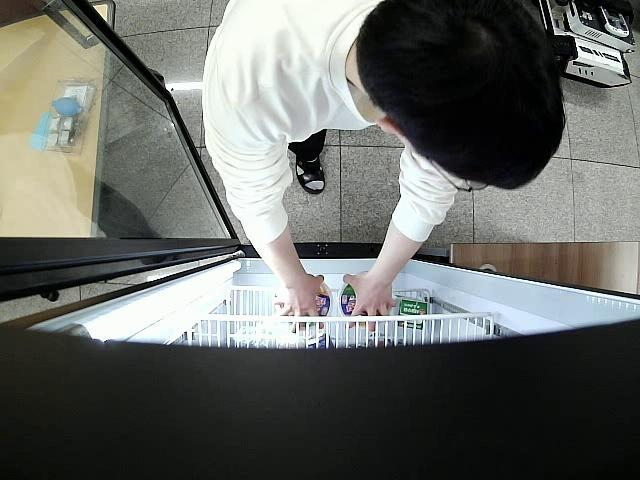09_yukGaeJang: (304, 280, 332, 327), (339, 285, 367, 326)
